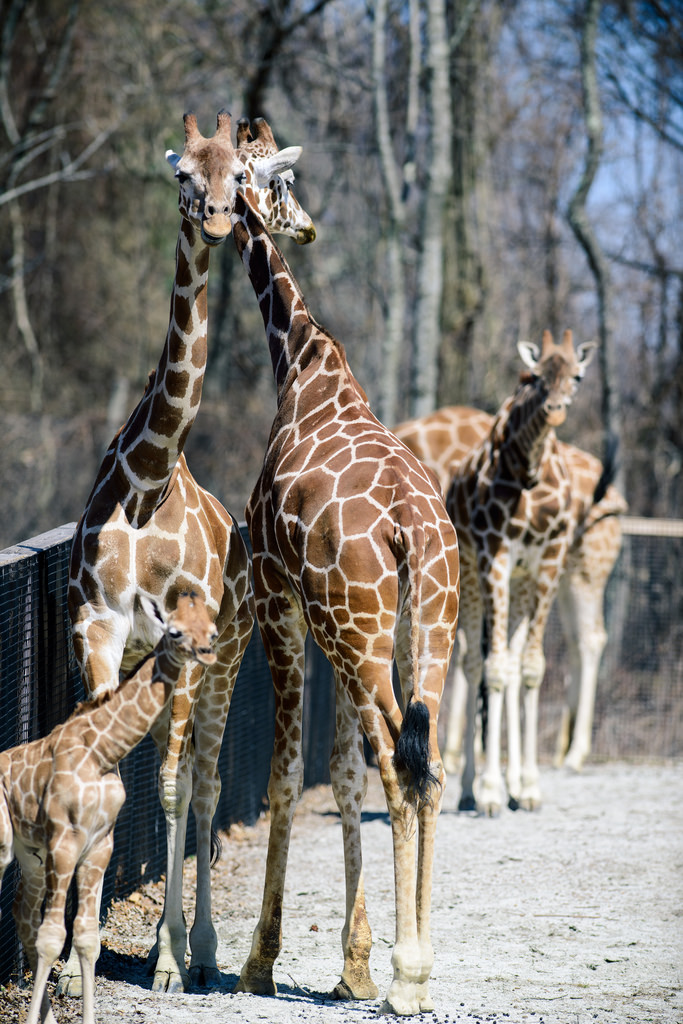giraffe: (201, 102, 477, 1014), (93, 117, 254, 970), (420, 284, 584, 818), (14, 596, 230, 970)
